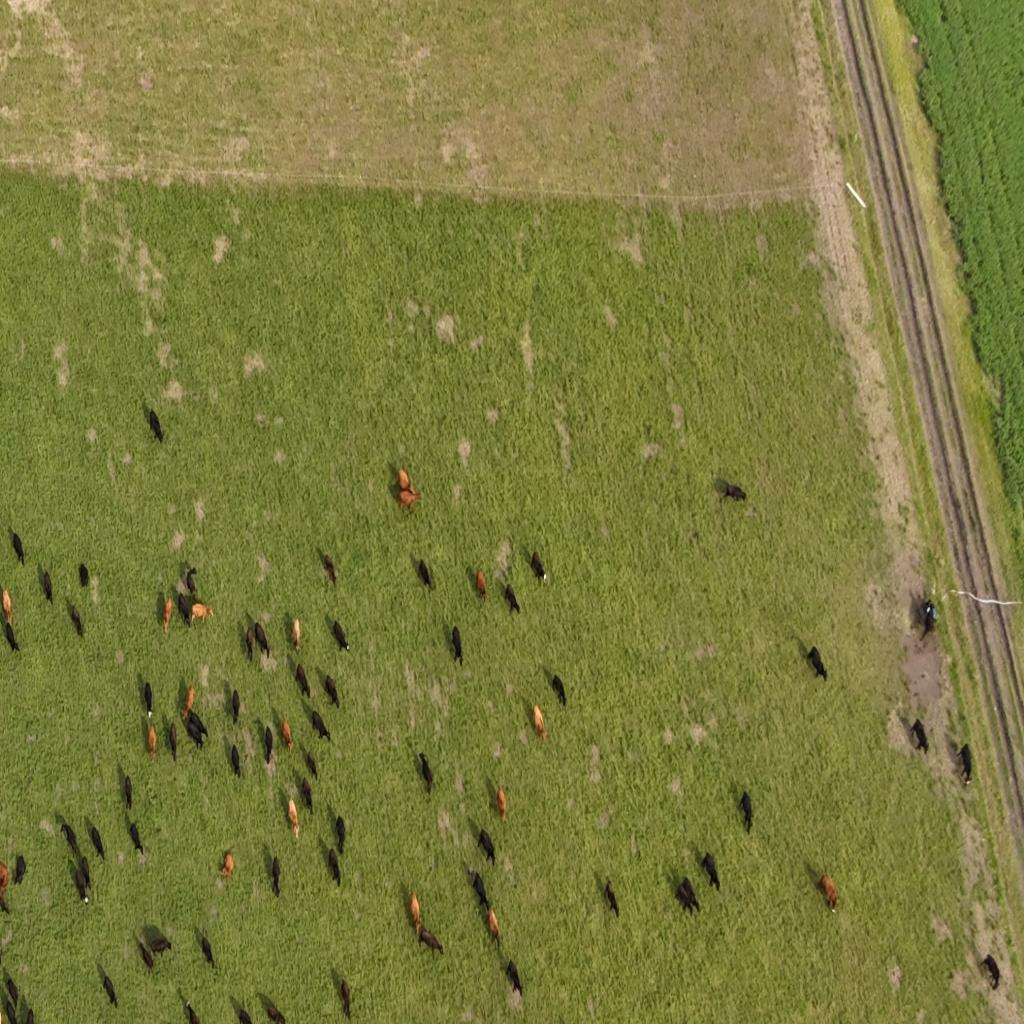cow: (1, 972, 36, 1024), (246, 621, 272, 663), (676, 877, 700, 916), (186, 710, 209, 750), (418, 924, 444, 956), (700, 851, 720, 891), (472, 870, 490, 914), (807, 645, 828, 682), (15, 847, 31, 895), (718, 477, 748, 502), (478, 826, 496, 866), (910, 718, 929, 755), (820, 874, 838, 913), (738, 790, 754, 833), (74, 861, 90, 903), (60, 821, 79, 856), (506, 959, 523, 998), (101, 969, 118, 1008), (137, 935, 154, 974), (982, 954, 1000, 990), (399, 484, 422, 512), (311, 710, 330, 742), (957, 744, 972, 784), (199, 931, 215, 968), (420, 753, 434, 795), (148, 936, 172, 960), (922, 600, 938, 636), (287, 798, 300, 842), (604, 879, 619, 917), (530, 550, 547, 583), (532, 704, 546, 743), (264, 998, 285, 1024), (4, 620, 20, 654), (90, 824, 105, 860), (333, 621, 349, 654), (324, 675, 340, 708), (409, 892, 421, 936), (177, 592, 192, 627), (504, 582, 520, 614), (129, 822, 143, 858), (340, 978, 352, 1020), (12, 531, 26, 566), (296, 664, 310, 699), (191, 602, 214, 623), (451, 626, 463, 666), (488, 908, 500, 948), (149, 408, 163, 442), (328, 847, 340, 886), (323, 554, 338, 585), (552, 674, 566, 707), (70, 604, 84, 637), (418, 558, 432, 590), (182, 686, 194, 722), (281, 717, 293, 753), (2, 588, 13, 626), (496, 786, 507, 823), (185, 999, 201, 1024), (42, 570, 53, 606), (301, 776, 312, 812), (220, 851, 234, 879), (336, 815, 346, 854), (476, 568, 487, 602), (163, 597, 173, 633), (264, 725, 273, 765), (305, 751, 317, 781), (237, 1002, 253, 1024), (144, 681, 153, 720), (3, 999, 17, 1024), (186, 567, 198, 596), (272, 855, 280, 898), (397, 467, 410, 493), (170, 722, 178, 762), (231, 744, 240, 779), (292, 618, 301, 652), (124, 773, 132, 811), (148, 724, 156, 761), (246, 626, 254, 662), (232, 689, 240, 724), (79, 563, 89, 588)
